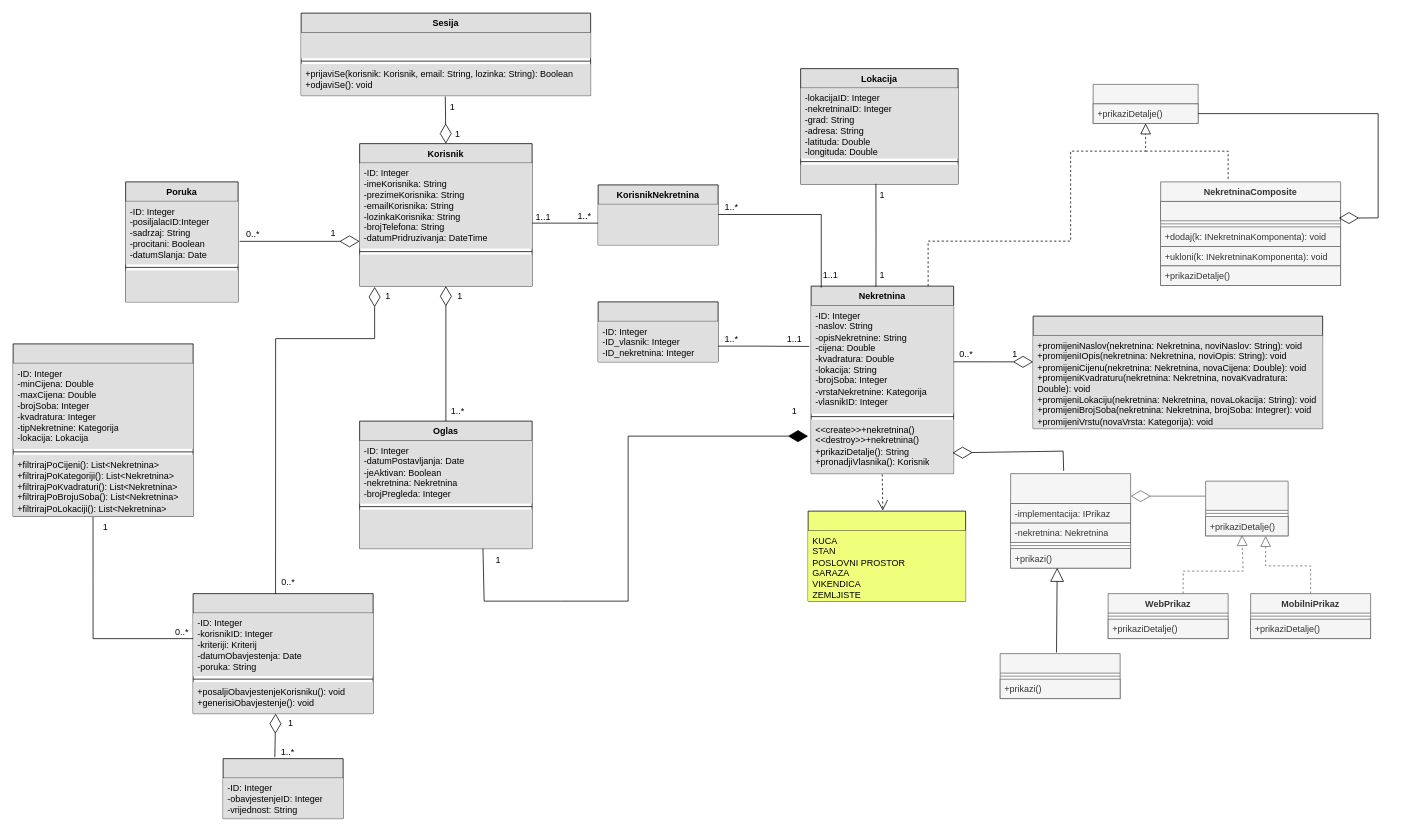
The diagram is 1411 pixels wide and 834 high, and some of its shapes have lost their labels. Each missing label, with the box of its shape:
+aktivirajOglas(): void +deaktivirajOglas(): void +prikaziStatistiku(): String: (359, 509, 532, 548)
+dajKoordinate(): Pair<Float,Float>: (800, 164, 958, 184)
+posalji(): void +prikaziDetalje(): String: (125, 270, 238, 302)
-ID: Integer -ID_nekretnina: Integer -ID_korisnik: Integer: (598, 204, 718, 244)
-nekretnine: List<INekretninaComponent>: (1160, 201, 1341, 221)
-sesijaId: Integer -prijavljeniKorisnik: Korisnik: (301, 32, 590, 58)
<<abstract>> PrikazNekretine: (1010, 473, 1131, 568)
<<create>>+korisnik() +prikaziProfil(): String: (359, 254, 532, 286)
<<enumeration>> Kategorija: (807, 510, 966, 601)
<<interface>> INekretninaComponent: (1092, 84, 1198, 123)
<<interface>> IPrikaz: (1205, 480, 1288, 536)
DetaljanPrikaz: (999, 653, 1120, 699)
FilterNekretnina: (12, 343, 193, 516)
Kriterij: (222, 758, 343, 819)
NekretninaService: (1032, 315, 1323, 429)
Obavještenje: (192, 593, 373, 714)
Vlasnik_Nekretnina: (597, 301, 718, 362)
